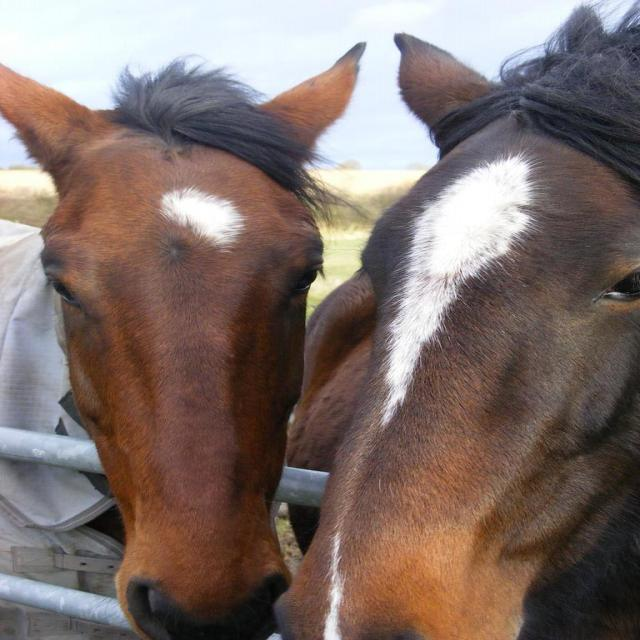Horse: (271, 0, 640, 640), (0, 41, 367, 640)
